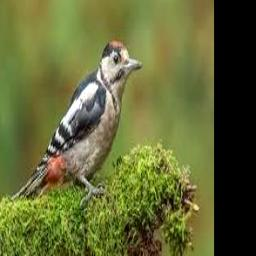Woodpecker: (12, 40, 142, 202)
